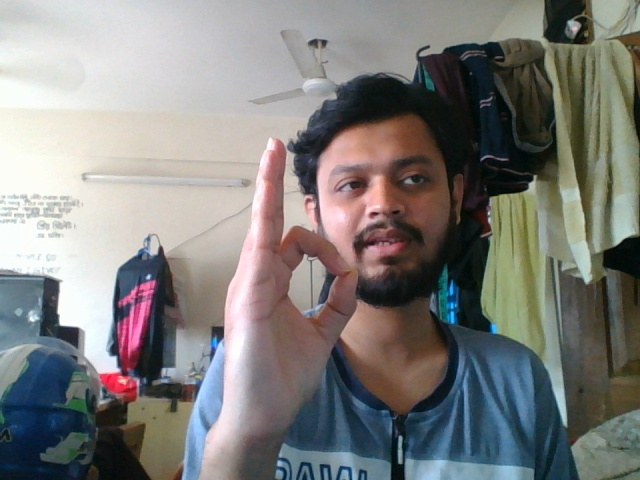ca: (198, 130, 364, 468)
